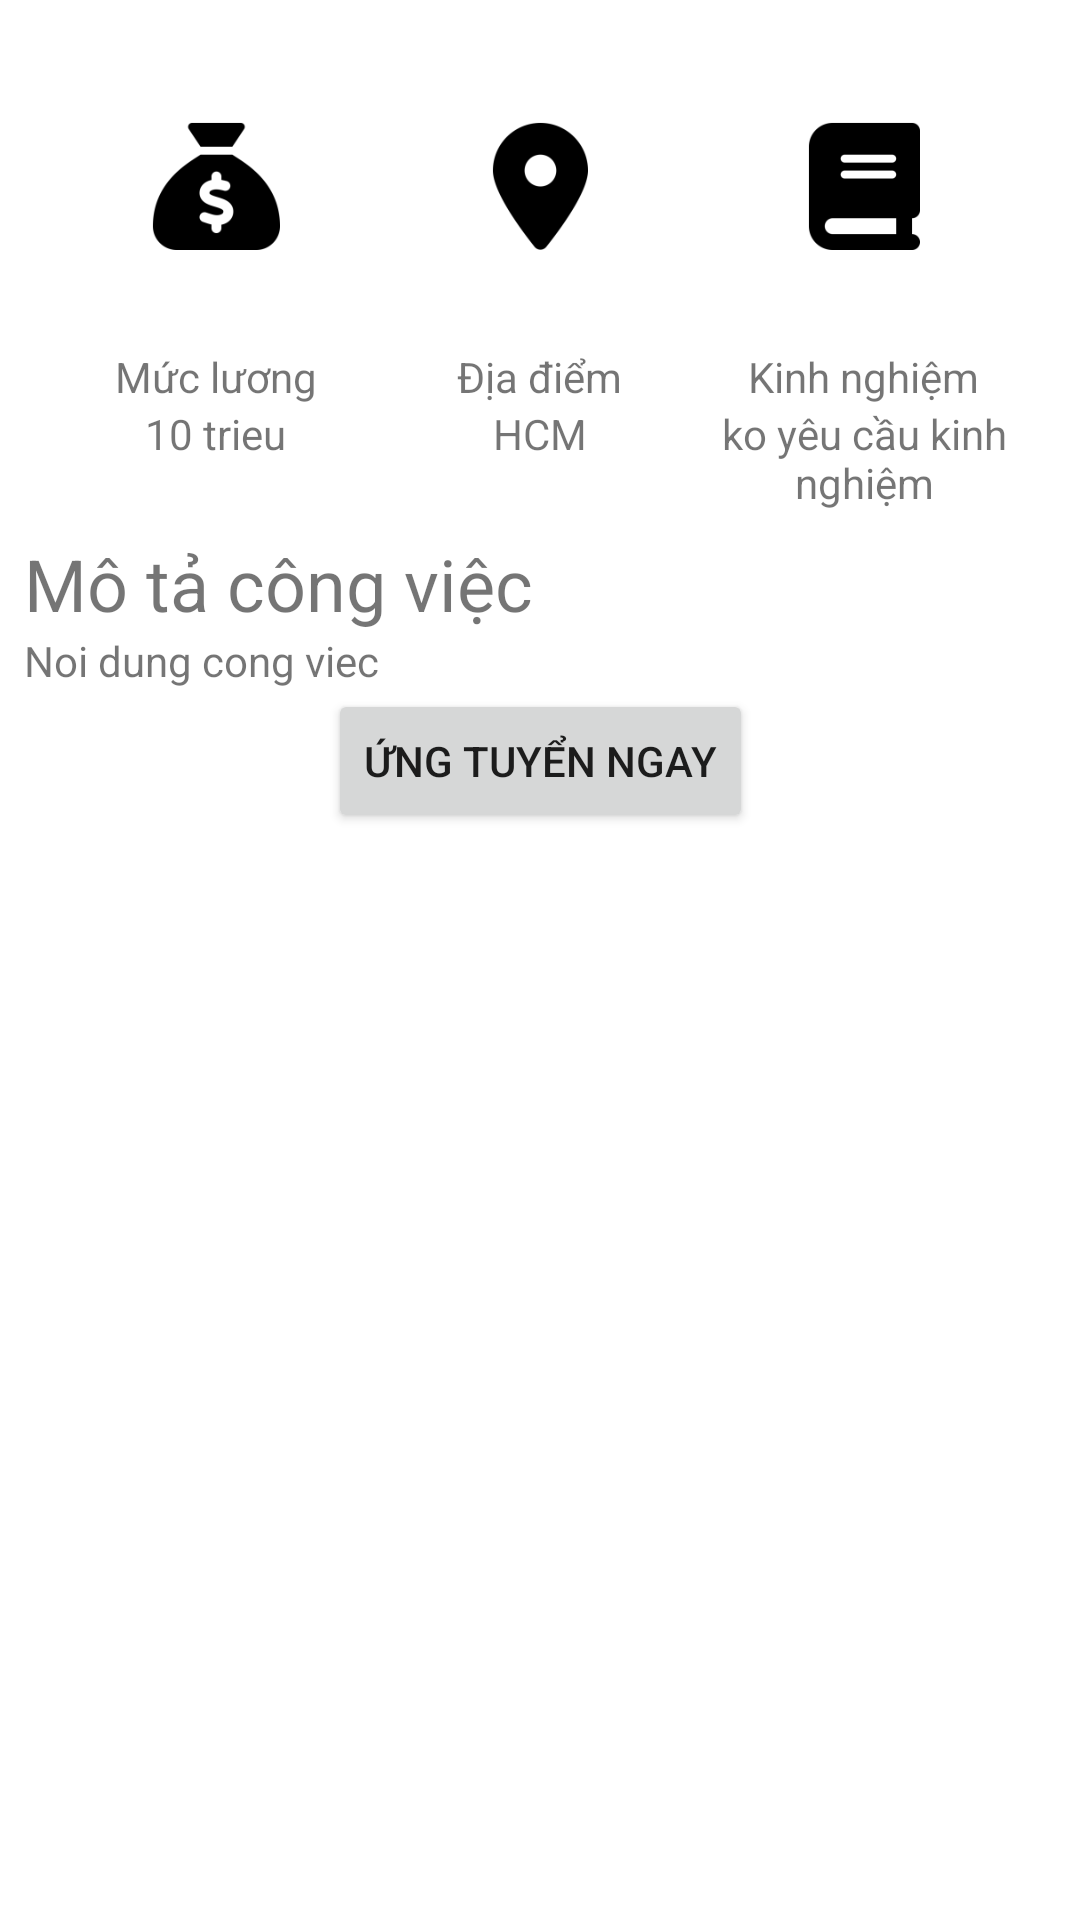

Screen size 1080 × 1920. Icon name, then its center in pixels as [x,y]:
book: [864,186]
location: [540,186]
money: [216,186]
